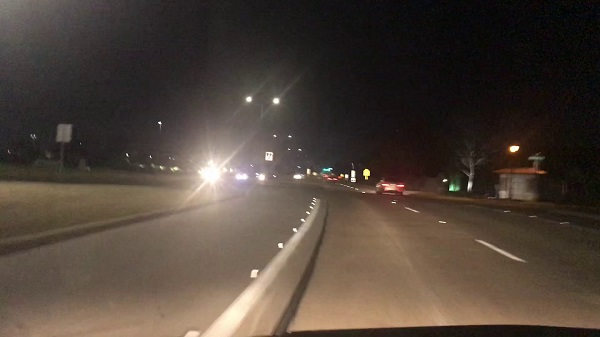car: (375, 175, 404, 196), (323, 172, 338, 184)
